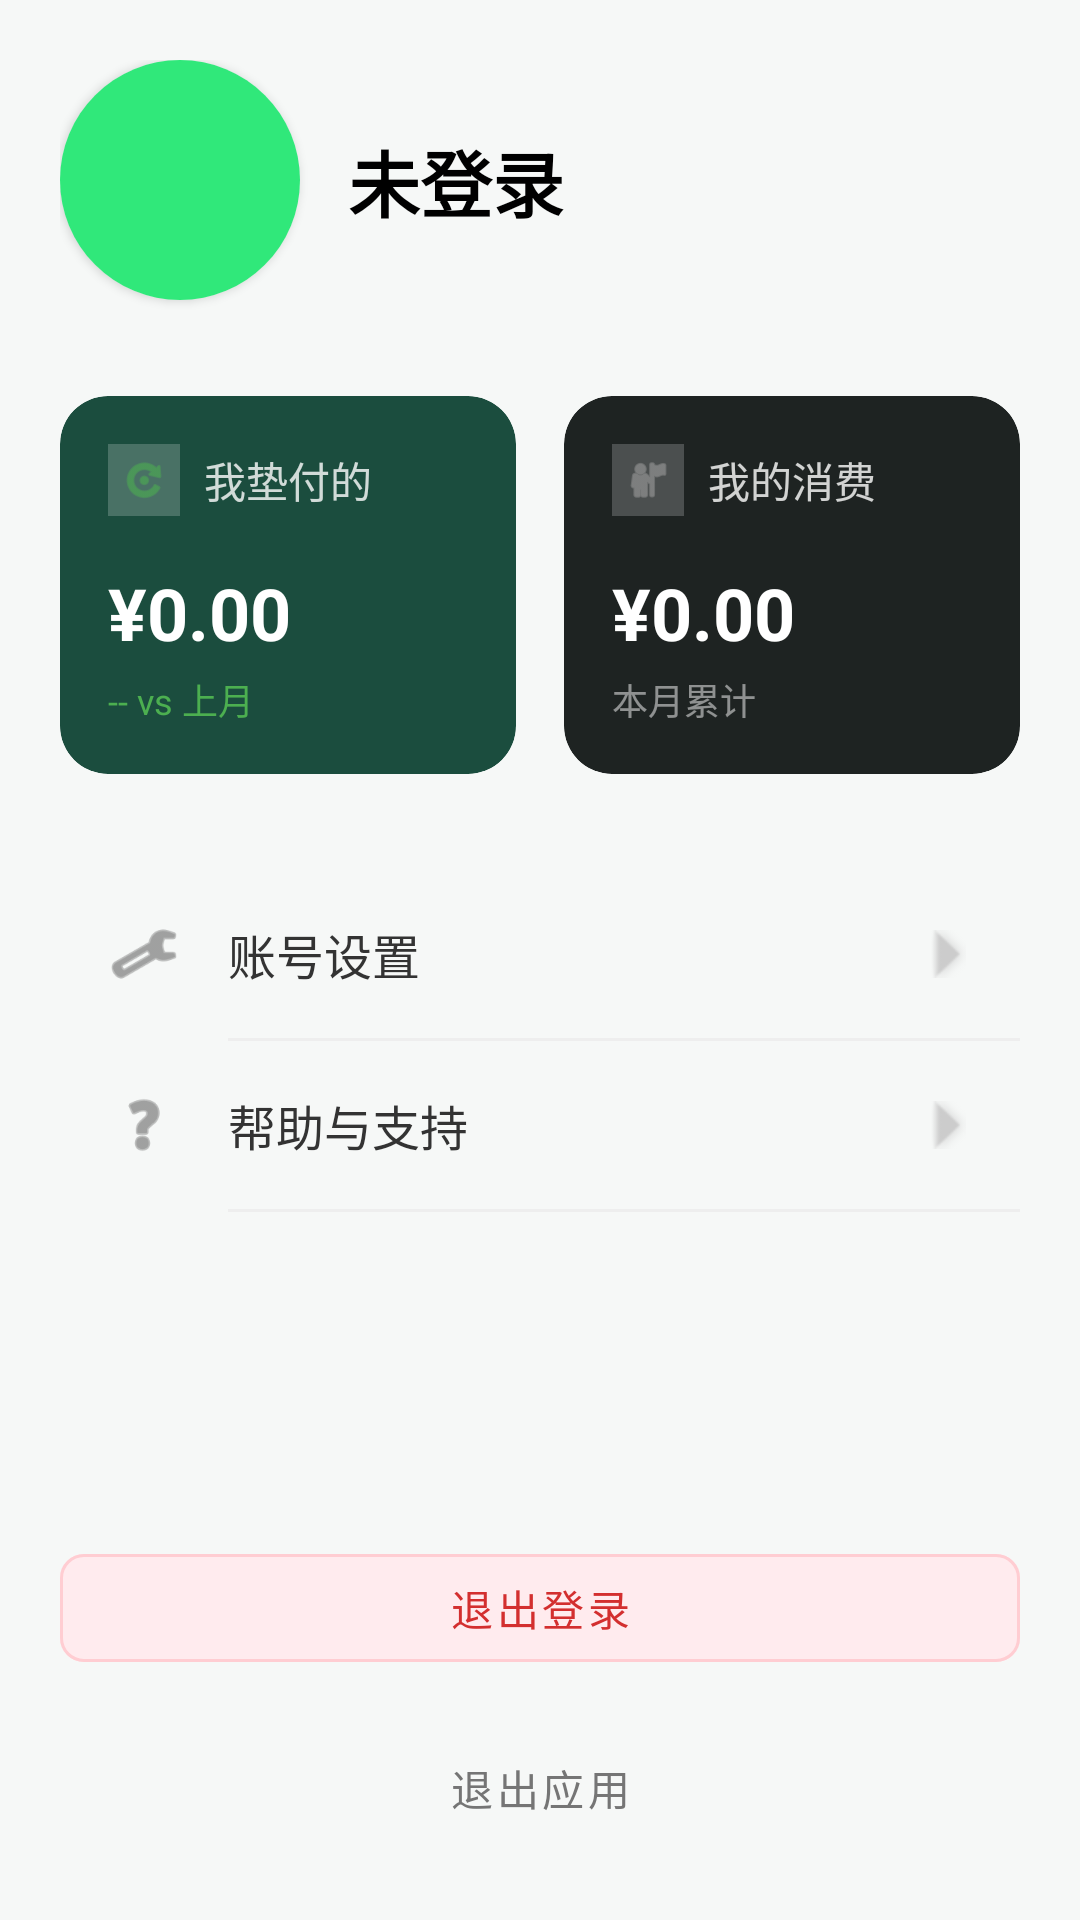

Locate icon controls on the screen. Image size 1080 x 1920, boxes as (x1, y1, x2, y2).
help: (129, 1099, 160, 1151)
preferences: (112, 929, 176, 979)
